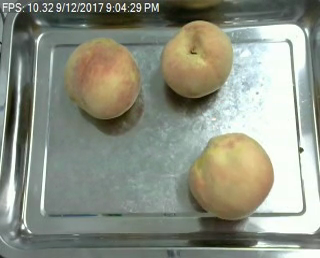Peach: (187, 131, 273, 220), (63, 38, 140, 119), (162, 20, 232, 98)
